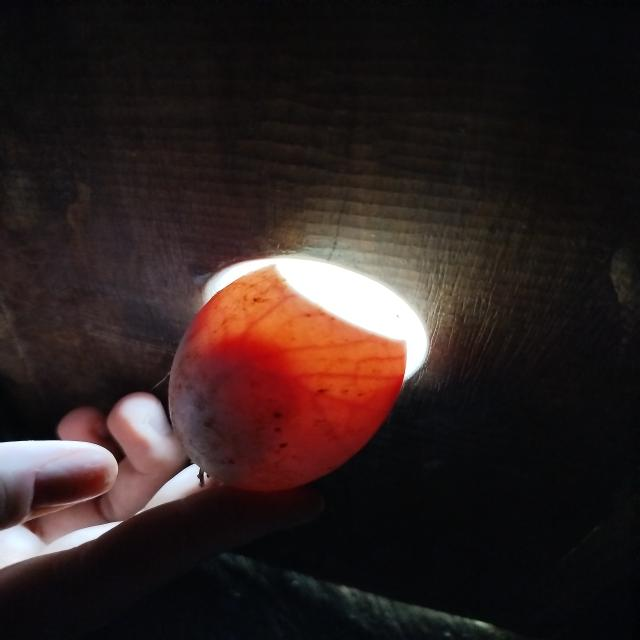Embriao: (169, 343, 292, 484)
